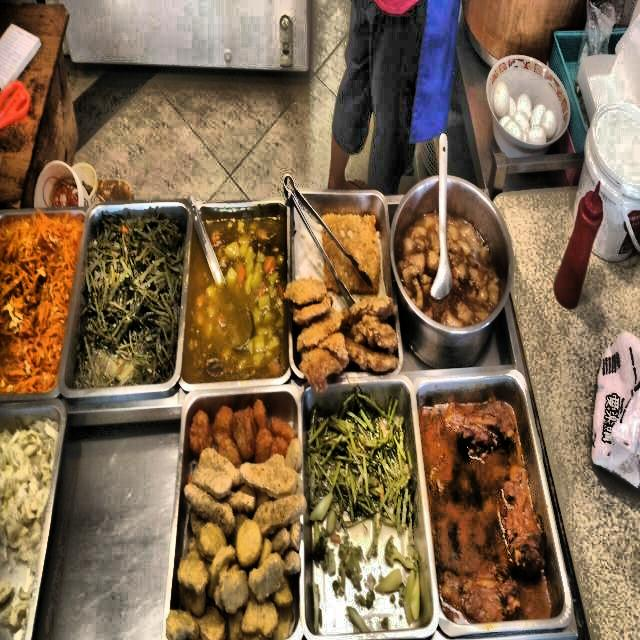Food: (188, 199, 288, 383), (0, 215, 78, 394), (176, 541, 298, 639), (308, 403, 409, 512), (0, 422, 50, 539)
